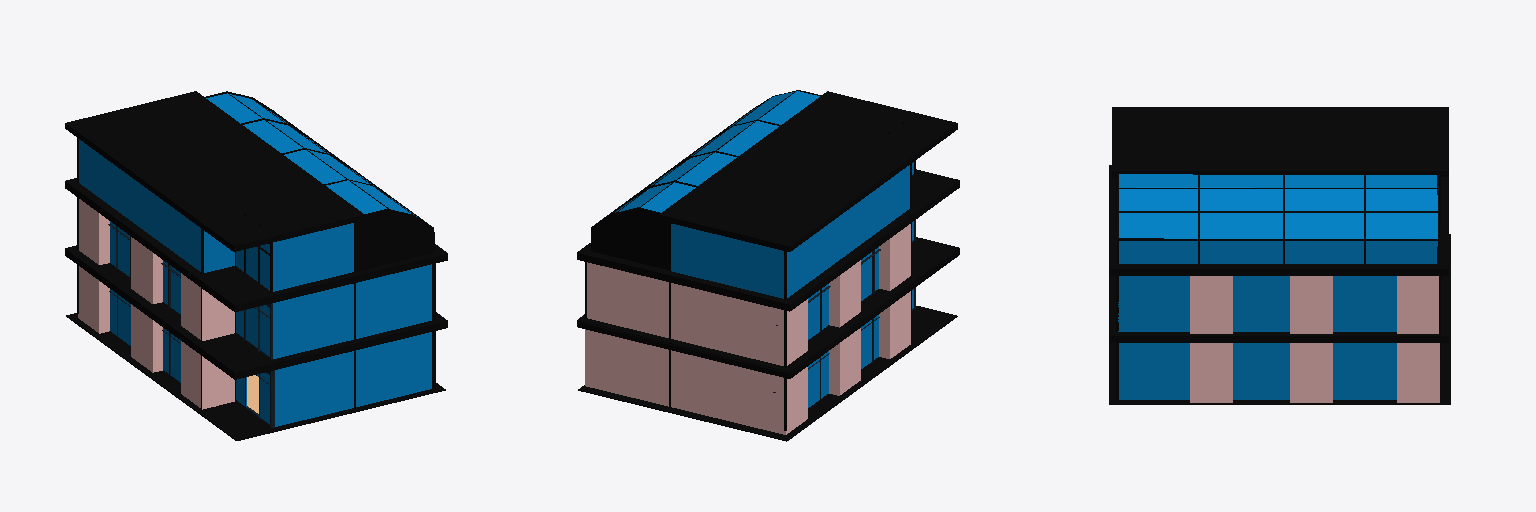
Rendered from building.obj.
3 views of the same model, side by side, from view 1: azimuth 30°, elevation 25°; view 2: azimuth 150°, elevation 25°; view 3: azimuth 270°, elevation 25° (orthographic).
Parts seen in each view (by area): view 1: Ceiling1, Glass16, Glass10, Ceiling5, Ceiling3, Glass3, Glass6, Ceiling4, Glass18, Wall14, Wall6, Wall15 (+12 smaller); view 2: Ceiling1, Wall16, Wall8, Ceiling5, Ceiling3, Glass3, Glass2, Ceiling4, Glass18, WindowParitition40, Wall14, Glass19 (+11 smaller); view 3: Ceiling1, Glass13, Glass7, Glass20, Glass21, Glass19, Ceiling3, Ceiling5, Glass18, Wall10, Wall11, Wall12 (+6 smaller).
Boxes of the visible parts, x1,y1,x2,y2 form: Ceiling1: [65, 91, 364, 251]; Glass16: [275, 332, 431, 426]; Glass10: [273, 264, 431, 358]; Ceiling5: [65, 246, 447, 379]; Ceiling3: [65, 178, 447, 311]; Glass3: [79, 139, 200, 271]; Glass6: [273, 223, 353, 291]; Ceiling4: [66, 313, 445, 440]; Glass18: [206, 93, 386, 213]; Wall14: [181, 341, 217, 409]; Wall6: [181, 273, 217, 340]; Wall15: [131, 304, 162, 372]; Ceiling1: [659, 91, 957, 251]; Wall16: [590, 331, 783, 434]; Wall8: [590, 265, 783, 365]; Ceiling5: [577, 237, 959, 378]; Ceiling3: [577, 169, 959, 311]; Glass3: [787, 165, 909, 297]; Glass2: [671, 224, 783, 298]; Ceiling4: [578, 306, 957, 441]; Glass18: [641, 91, 819, 212]; WindowParitition40: [637, 207, 668, 269]; Wall14: [879, 291, 910, 358]; Glass19: [619, 92, 793, 211]; Ceiling1: [1112, 107, 1448, 176]; Glass13: [1119, 343, 1396, 399]; Glass7: [1119, 276, 1396, 331]; Glass20: [1119, 210, 1437, 238]; Glass21: [1119, 241, 1437, 263]; Glass19: [1119, 187, 1437, 210]; Ceiling3: [1109, 165, 1448, 275]; Ceiling5: [1109, 276, 1448, 342]; Glass18: [1119, 174, 1436, 187]; Wall10: [1190, 343, 1232, 402]; Wall11: [1397, 343, 1439, 402]; Wall12: [1290, 343, 1332, 402].
Size of the model in its own units: 234 by 207 by 325.